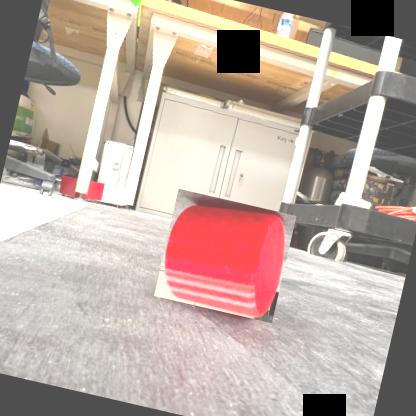red cylinder: (154, 190, 296, 324)
